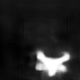plane: (33, 48, 70, 78)
